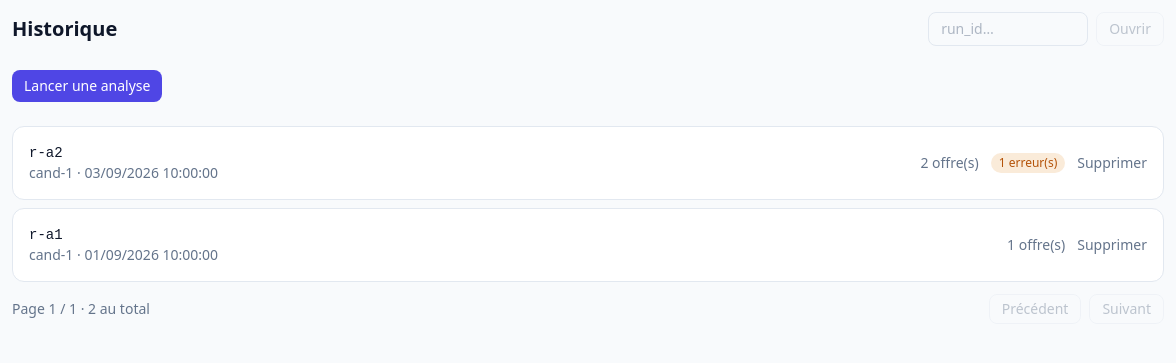
Test: RunsListPage › run sans nouvelle offre (total 0) : message dédié au lieu d'un run vide (OPP-150)
Expected: the text "r-a2" is shown, [29,145,63,161]
Click the button "Lancer une analyse" at {"x": 87, "y": 86}, box [12,70,162,102]
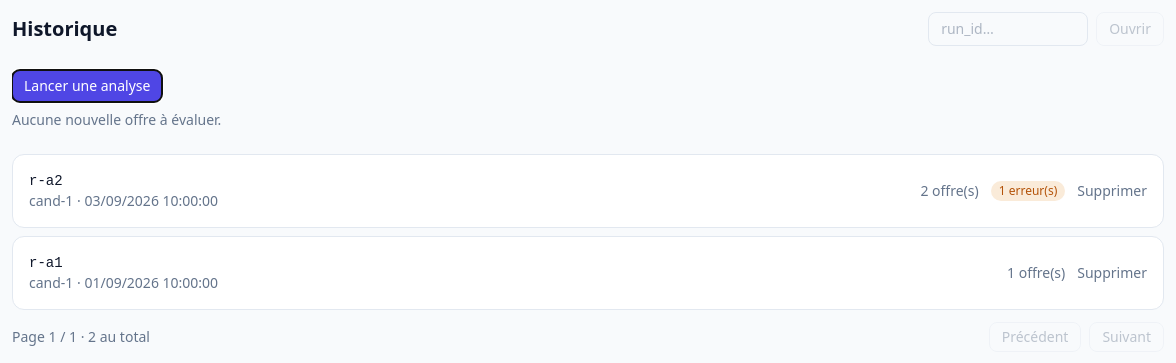
Result: the text "Aucune nouvelle offre à évaluer." is shown at [12,110,221,129]
